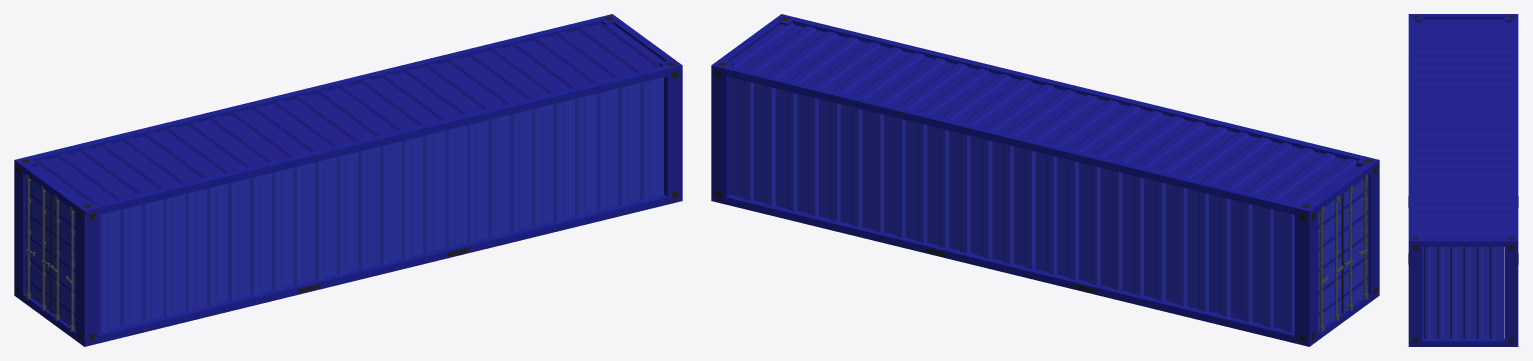
The model's file is clark q1 shipping container2.fbx.
3 renders of one model, left to right at view 1: azimuth 30°, elevation 25°; view 2: azimuth 150°, elevation 25°; view 3: azimuth 270°, elevation 25°, orthographic. The views are drawn at different scales.
Parts seen in each view (by area): view 1: Corner_Post_1_1_Corner_Post_1_1_Mesh; view 2: Corner_Post_1_1_Corner_Post_1_1_Mesh; view 3: Corner_Post_1_1_Corner_Post_1_1_Mesh.
Part boxes in pixels (box(x1,y1,x2,y2)): Corner_Post_1_1_Corner_Post_1_1_Mesh: box(14, 14, 682, 346); Corner_Post_1_1_Corner_Post_1_1_Mesh: box(711, 14, 1379, 346); Corner_Post_1_1_Corner_Post_1_1_Mesh: box(1408, 14, 1518, 346).
Size of the model in its own units: 1202 by 261 by 246.
